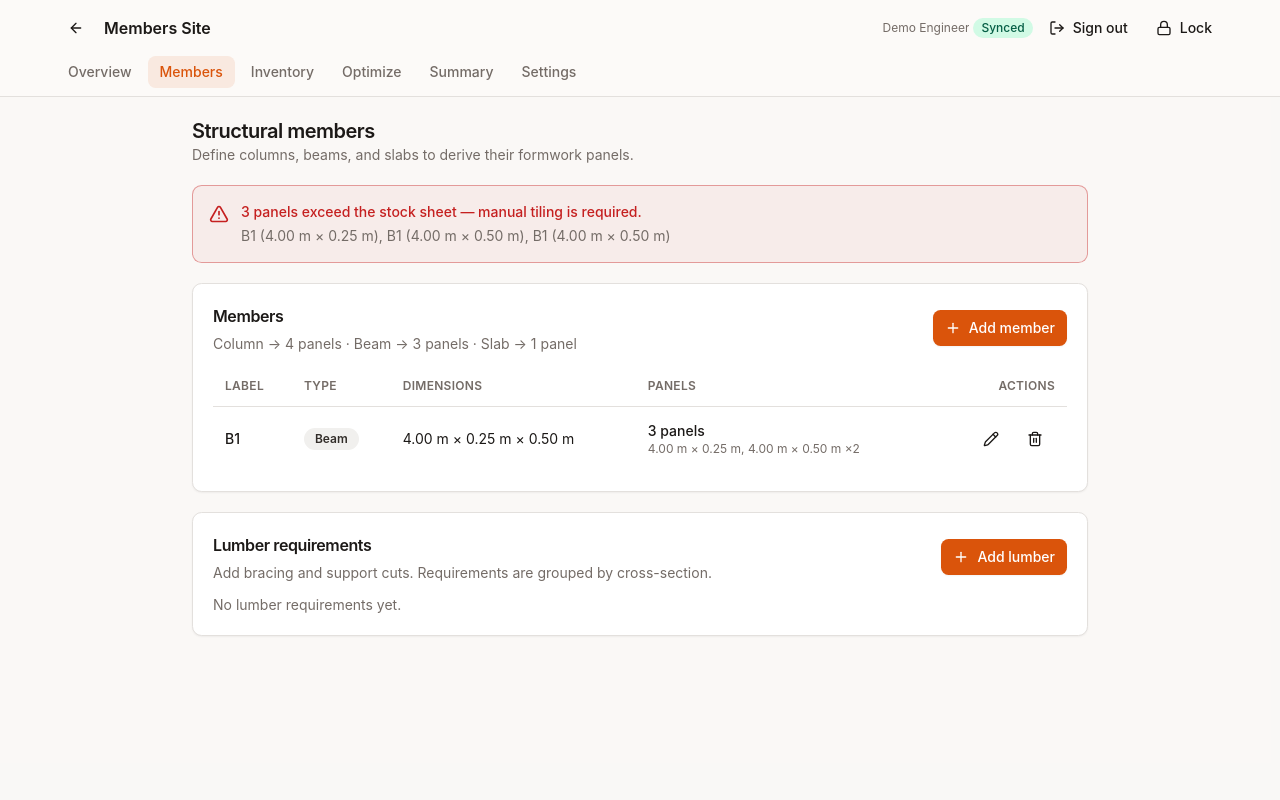
StructuralMembersScreen › edits an existing member
Expected: the heading "Structural members" is shown, [192,119,375,143]
Step 1. Click the button named "edit B1" → (991, 438), box [971,418,1011,458]
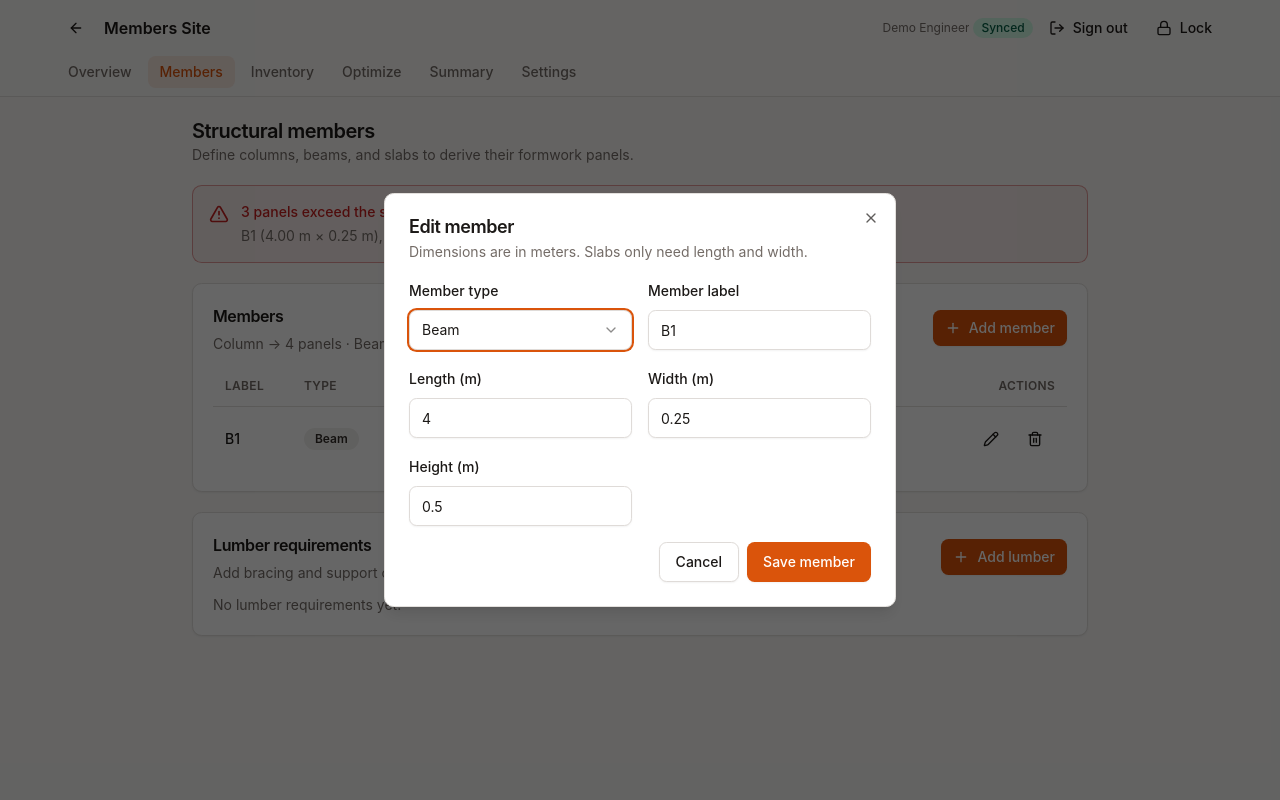
Step 2. Replace the text in the field labelled "Member label" with "B2" → (760, 330), box [648,310,871,350]
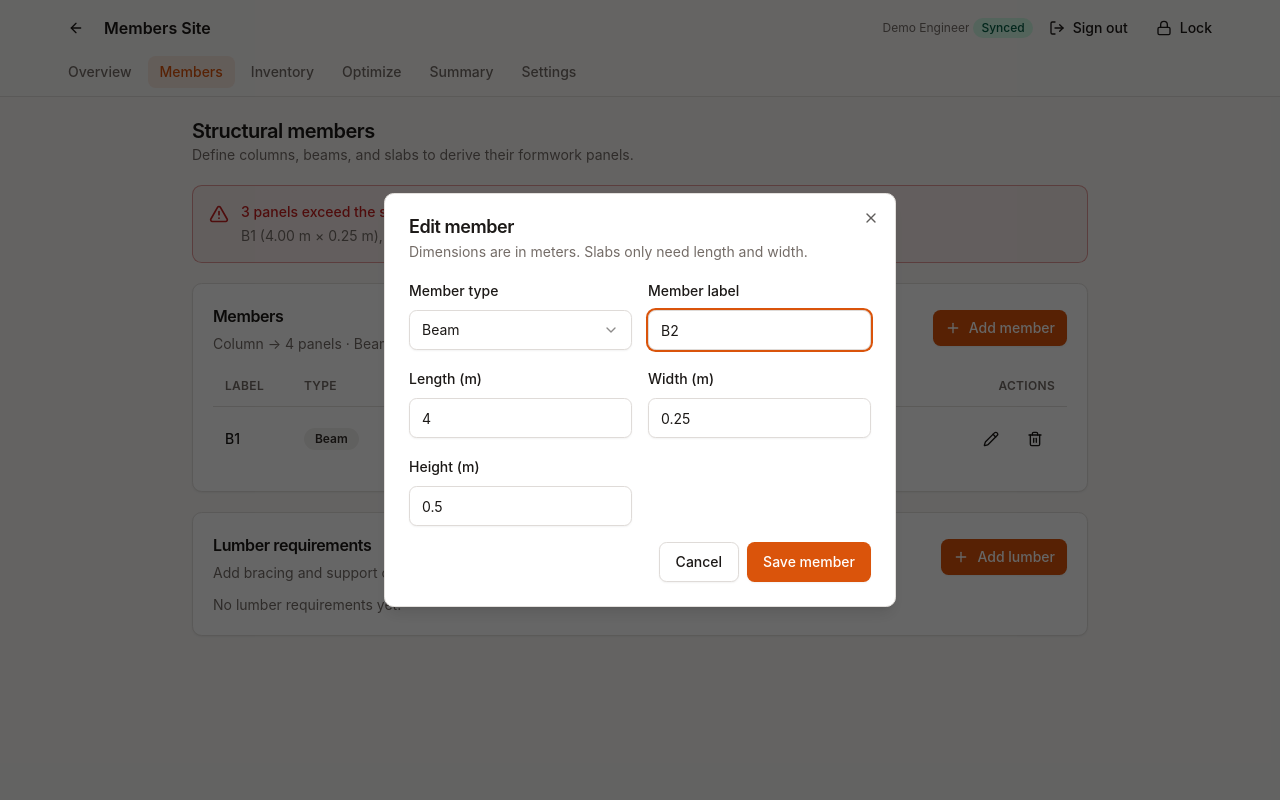
Step 3. Replace the text in the number field labelled "Length (m)" with "4.5" → (520, 418), box [409,398,632,438]
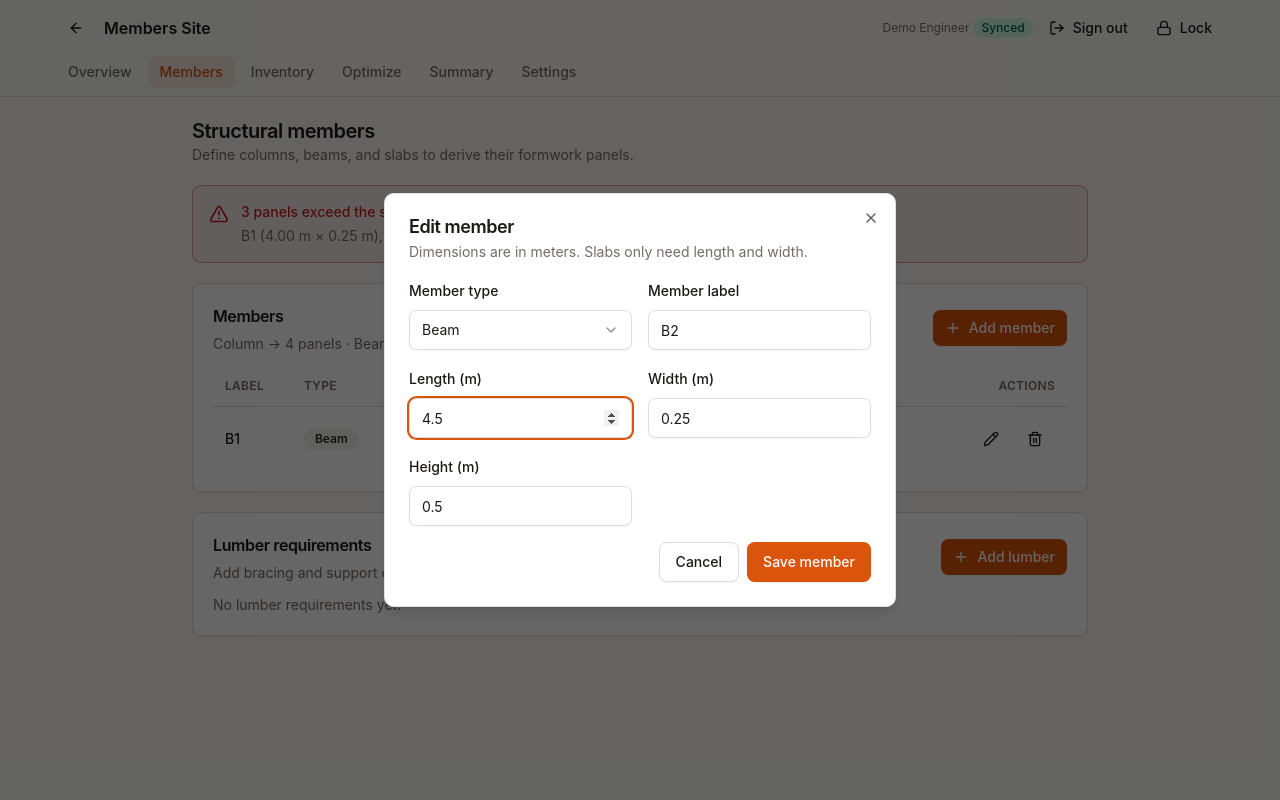
Step 4. Click the button "Save member" → (809, 562), box [747,542,871,582]
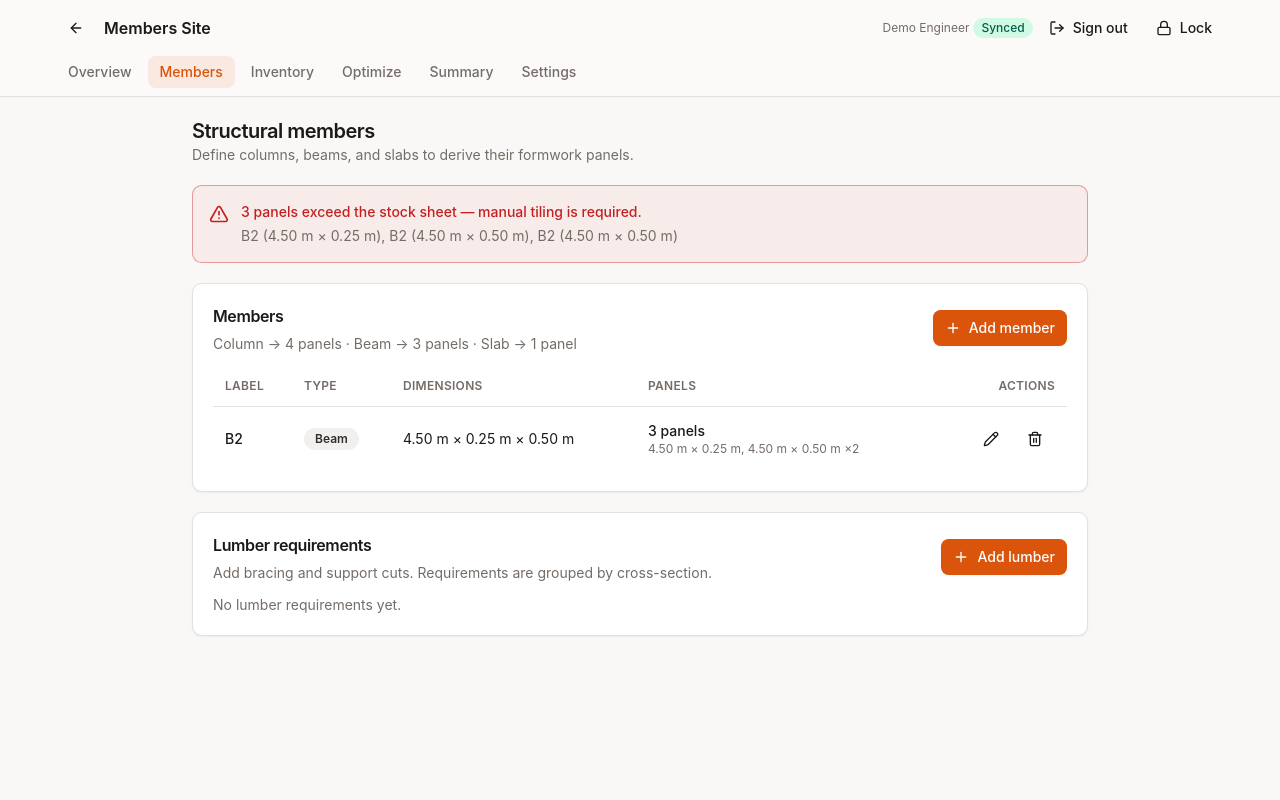
Result: the text "B2" is shown at [213,406,292,470]
Result: the text "4.50 m × 0.25 m" is shown at [241,227,678,244]
